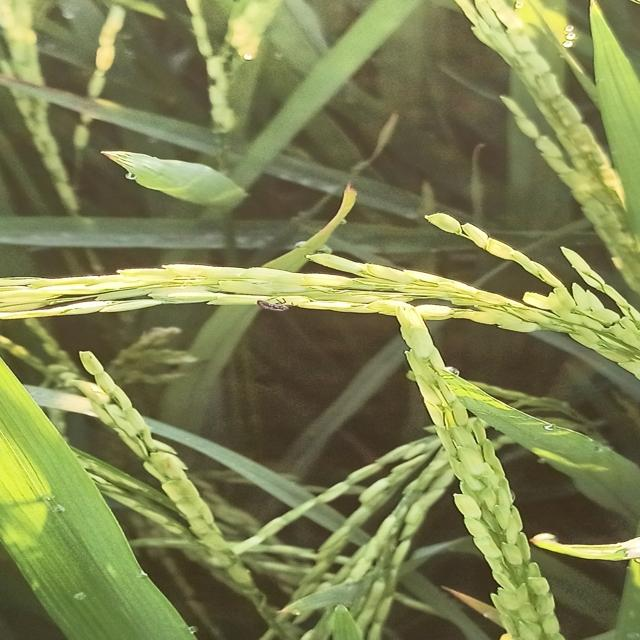healthy: (256, 294, 301, 313)
